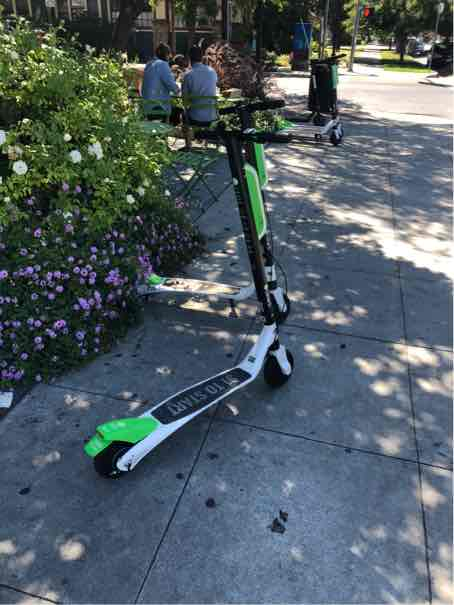scooter: (86, 104, 308, 489)
